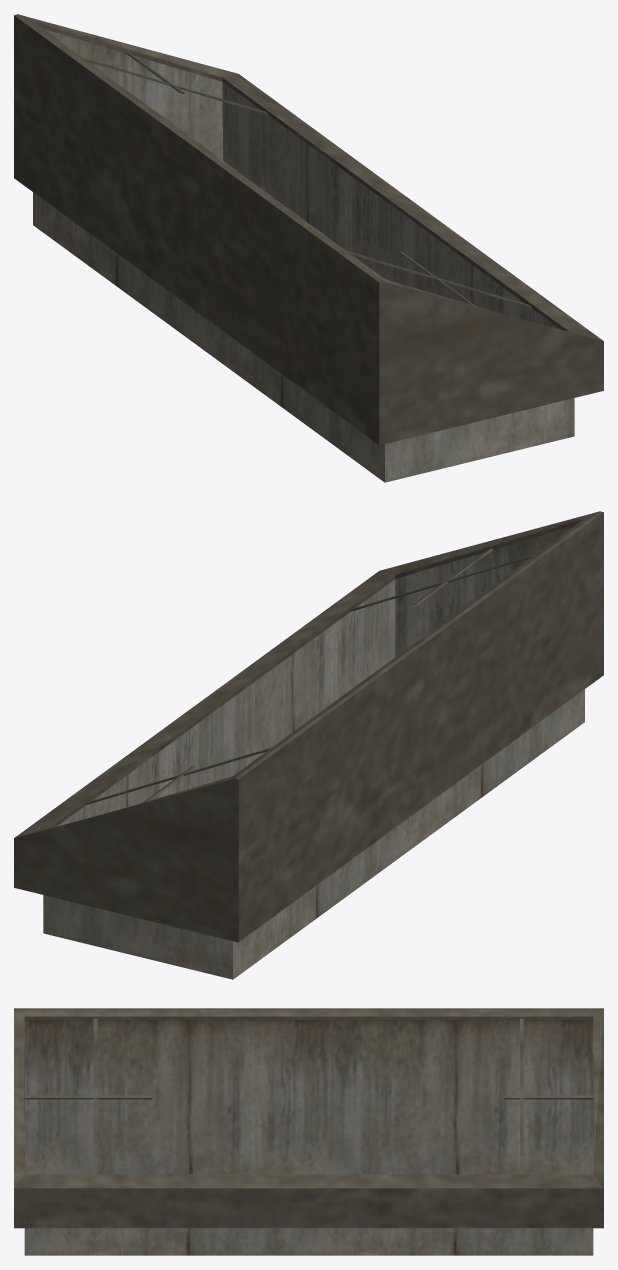
The model's file is RE_Sky2.glb.
The picture shows the model from 3 angles, top to bottom: view 1: azimuth 30°, elevation 25°; view 2: azimuth 150°, elevation 25°; view 3: azimuth 270°, elevation 25°; orthographic projection. The views are drawn at different scales.
Visible parts, largest first — view 1: _RE_Sky2; view 2: _RE_Sky2; view 3: _RE_Sky2.
Part boxes in pixels (x1=…): _RE_Sky2: x1=14, y1=14, x2=603, y2=482; _RE_Sky2: x1=14, y1=511, x2=603, y2=979; _RE_Sky2: x1=14, y1=1008, x2=603, y2=1255.
Size of the model in its own units: 3.14 by 2.78 by 8.85.
Materials: 2 (2 with a texture image).
